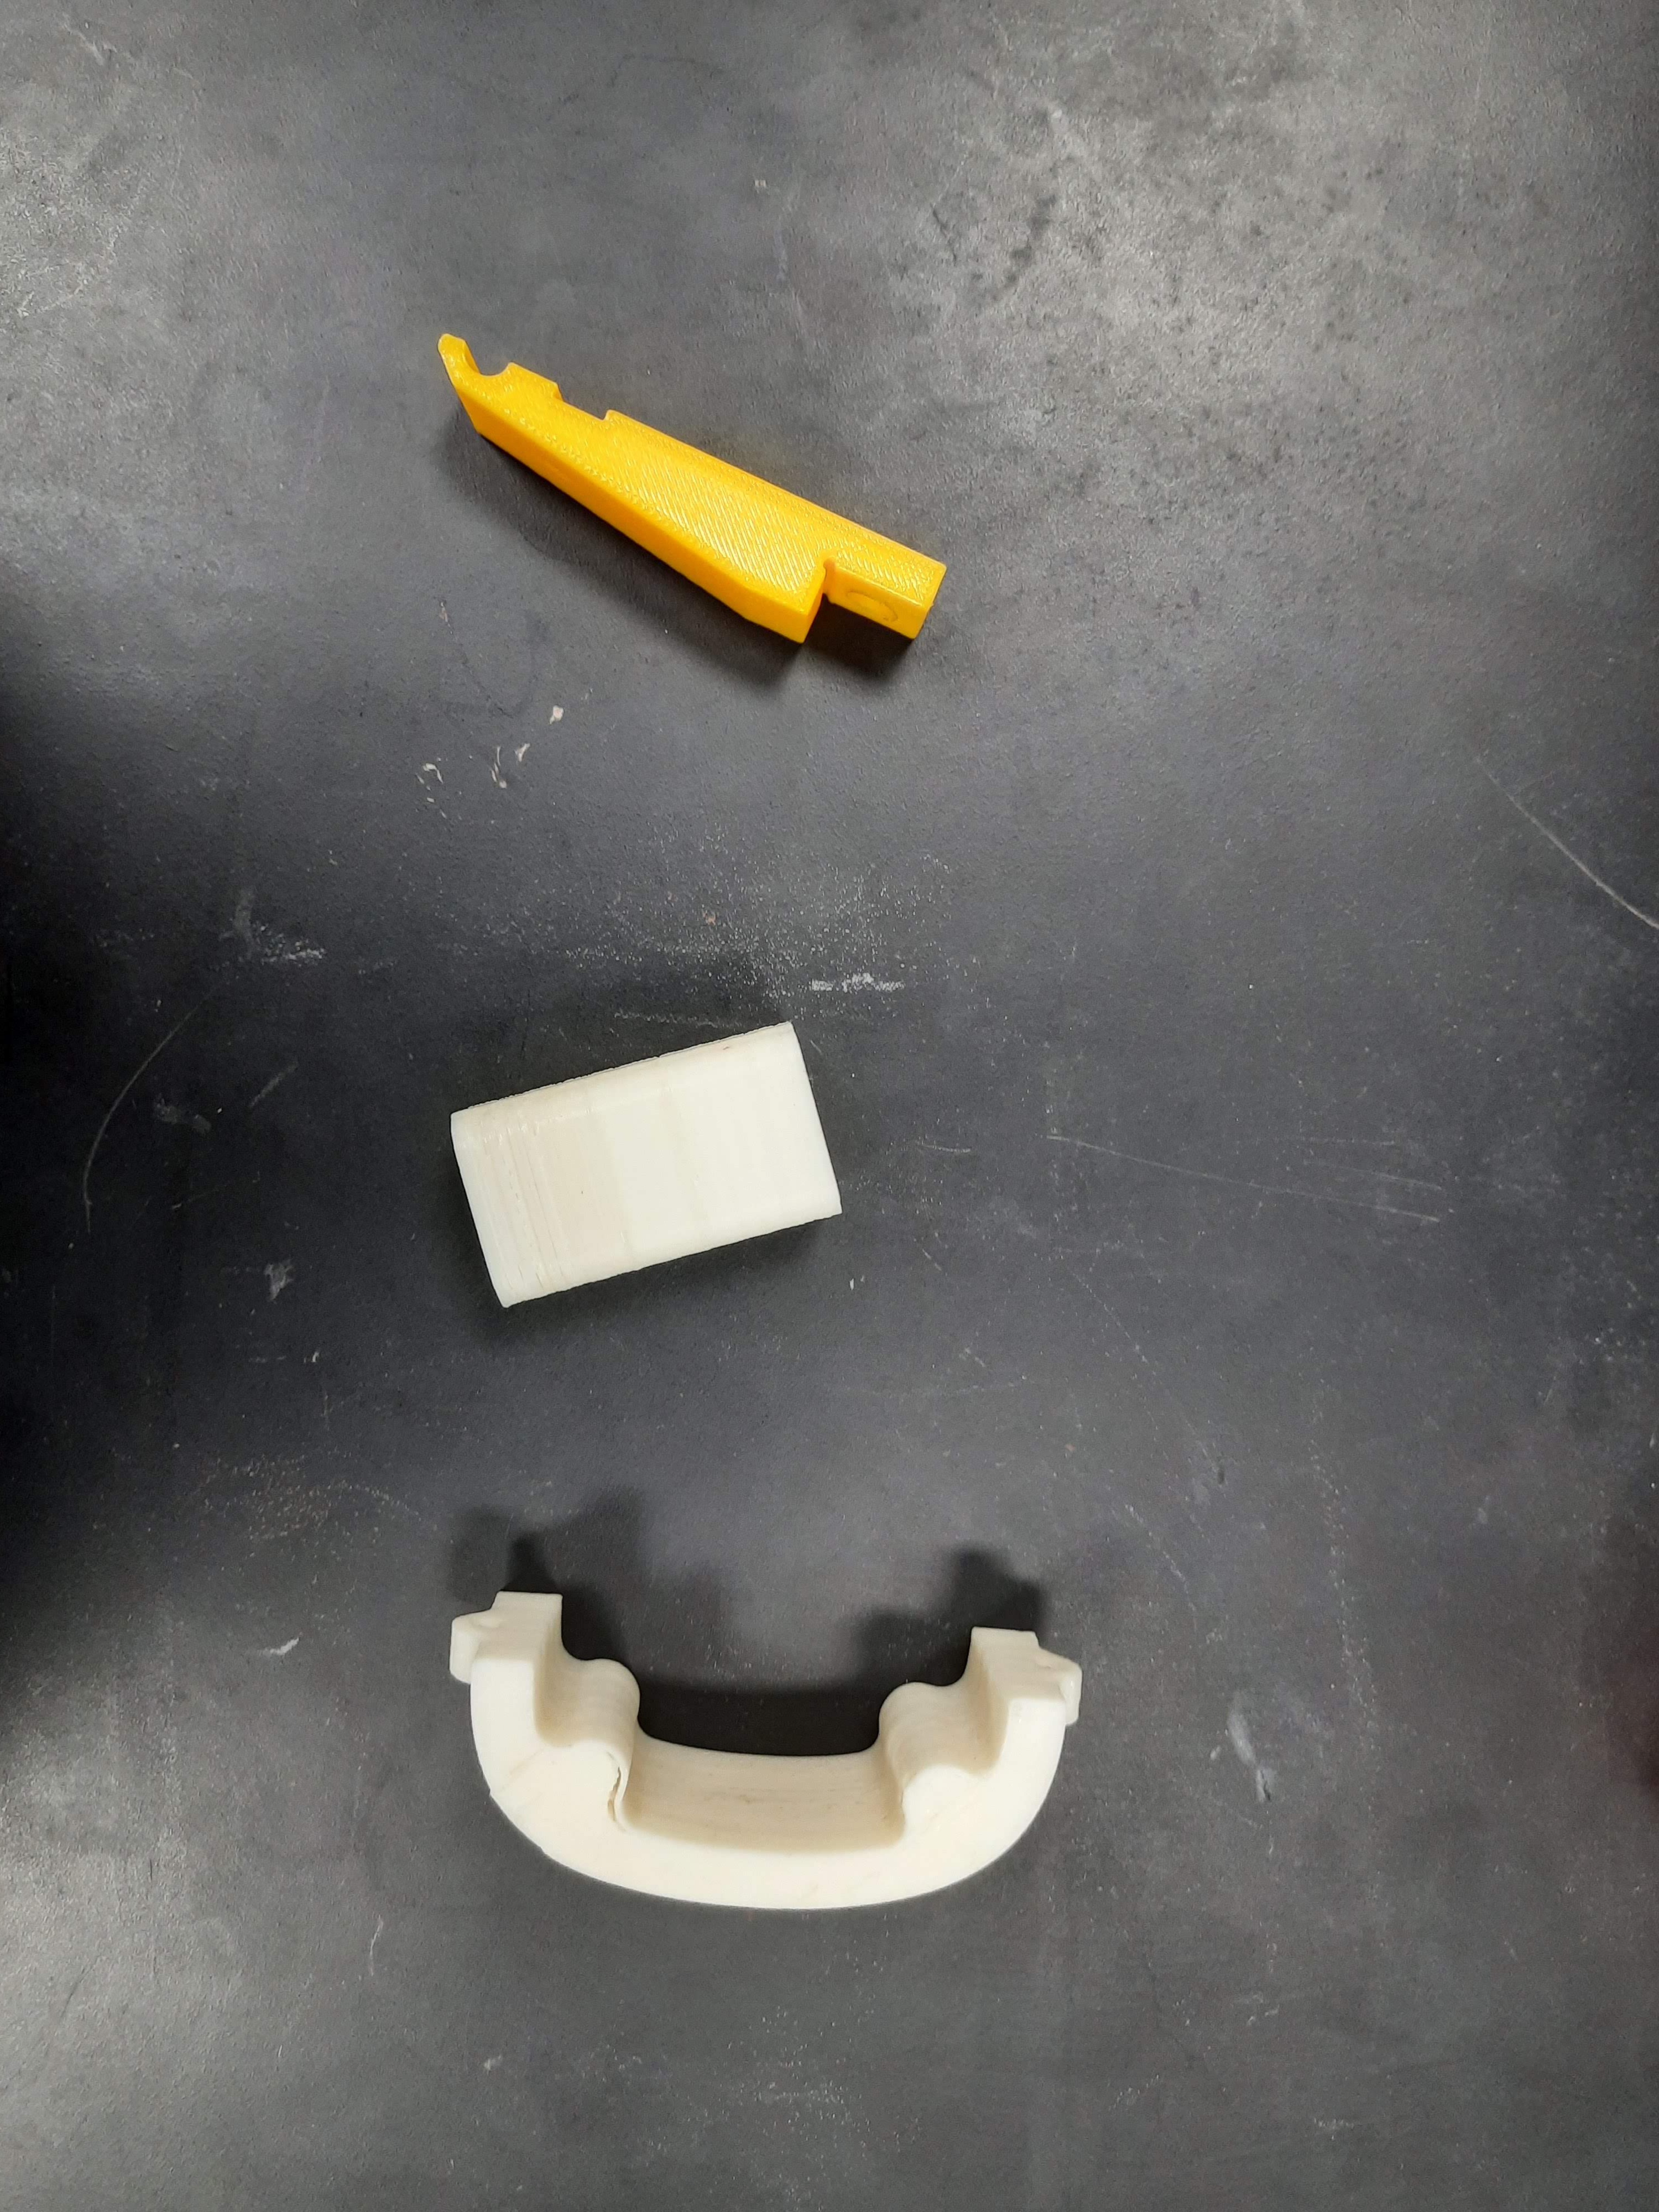ARC: (422, 1588, 1091, 1935)
CUBE: (451, 1019, 845, 1294)
YELLOW: (383, 324, 957, 693)
